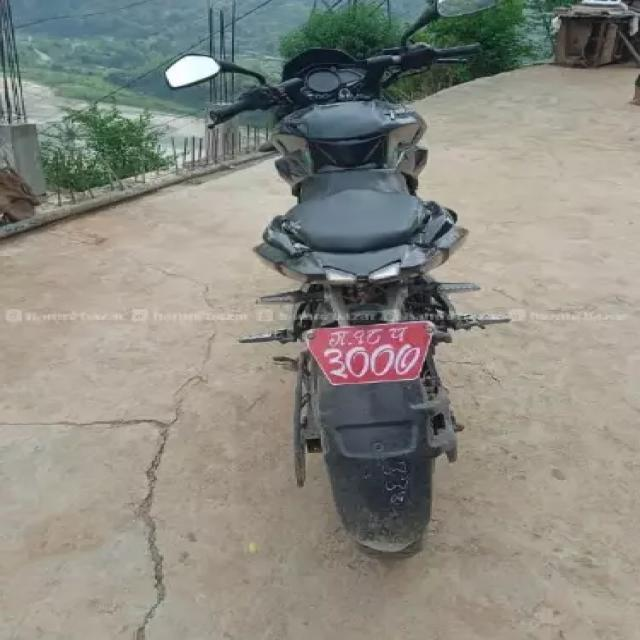License-plate: (295, 324, 444, 384)
